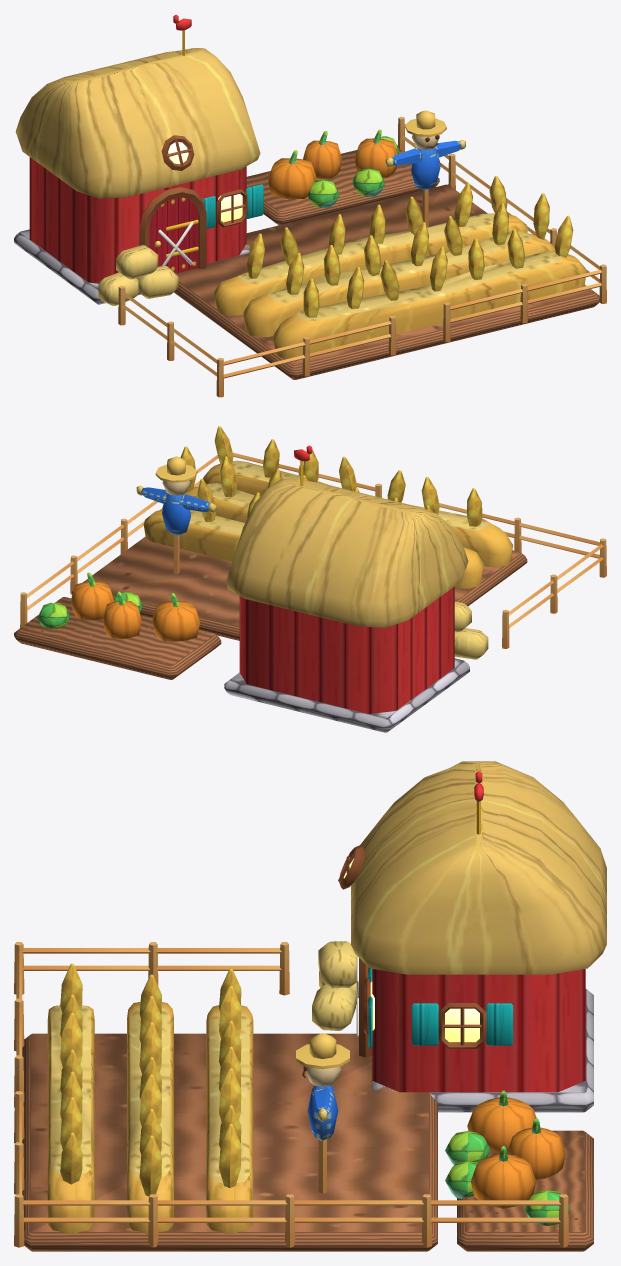
Rendered from farm.glb.
The picture shows the model from 3 angles, top to bottom: view 1: azimuth 30°, elevation 25°; view 2: azimuth 150°, elevation 25°; view 3: azimuth 270°, elevation 25°; orthographic projection. The views are drawn at different scales.
Parts seen in each view (by area): view 1: farm; view 2: farm; view 3: farm.
Boxes of the visible parts, x1,y1,x2,y2 form: farm: (14,14,606,397); farm: (14,426,606,732); farm: (14,761,606,1251).
Size of the model in its own units: 11.08 by 6.33 by 10.83.
4 materials, 4 textured.
